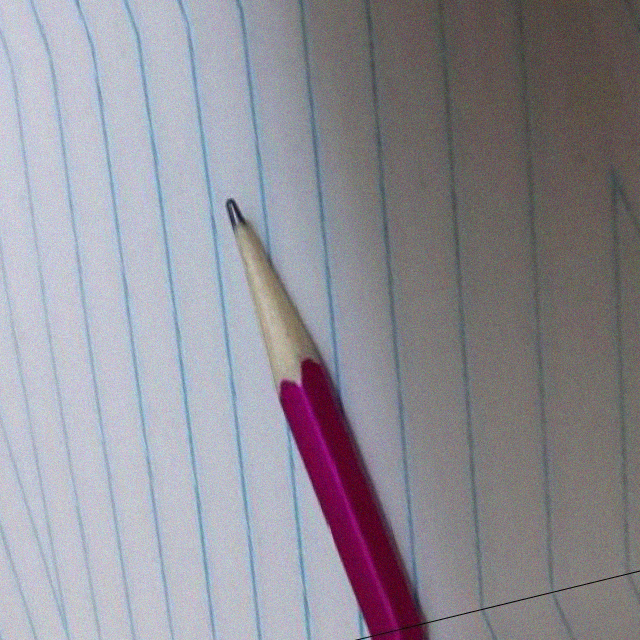pencil: (199, 179, 327, 403)
